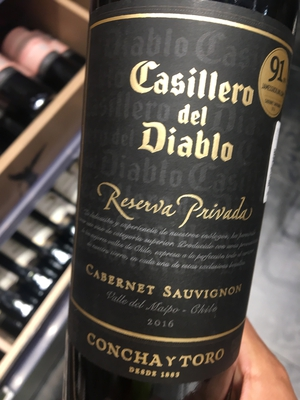casillero del diablo reserva privada cabernet sauvignon: (71, 1, 300, 396)
